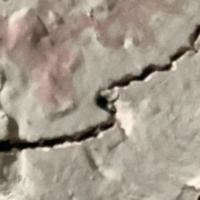crack: (0, 23, 199, 162)
